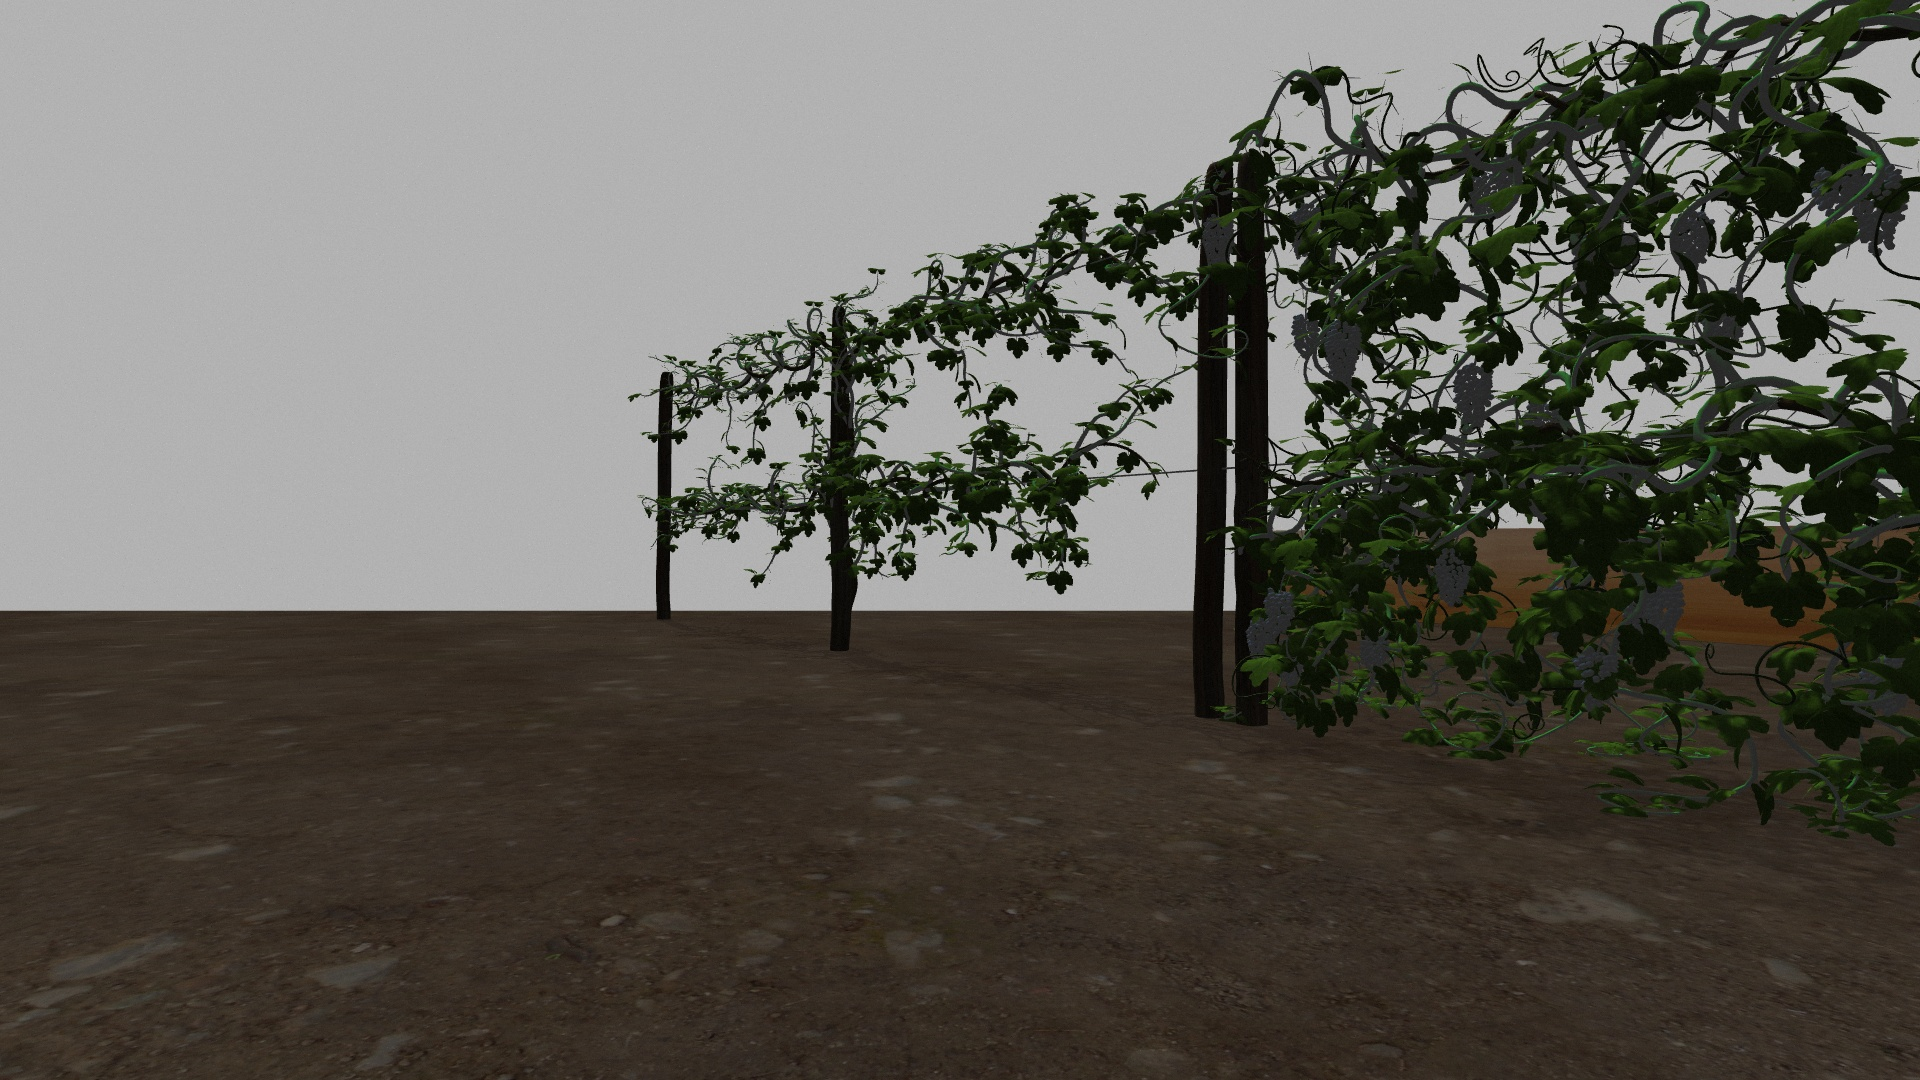grape: (1855, 166, 1907, 255), (1808, 167, 1867, 215), (1455, 363, 1494, 433), (1643, 578, 1687, 640), (1323, 323, 1362, 385), (1672, 210, 1709, 266), (1435, 549, 1470, 607), (1203, 215, 1236, 272), (1578, 640, 1618, 680), (1245, 618, 1279, 659), (1291, 313, 1321, 357), (1265, 589, 1295, 633), (1360, 636, 1390, 675)
